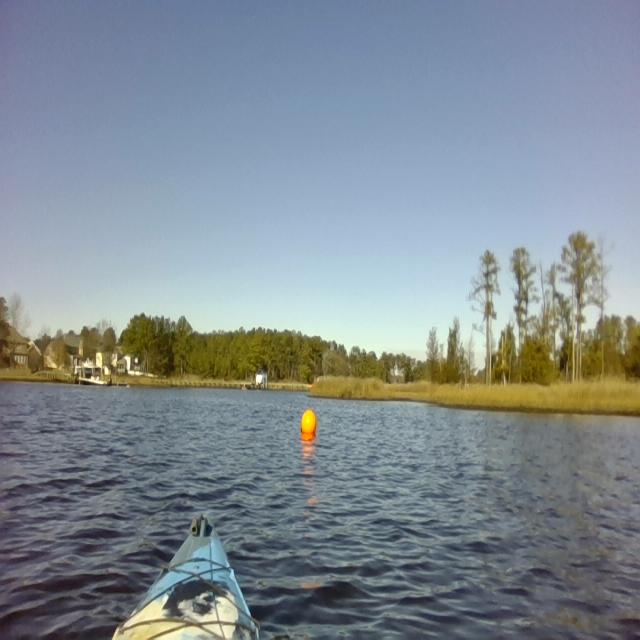Buoy: (295, 397, 319, 440)
